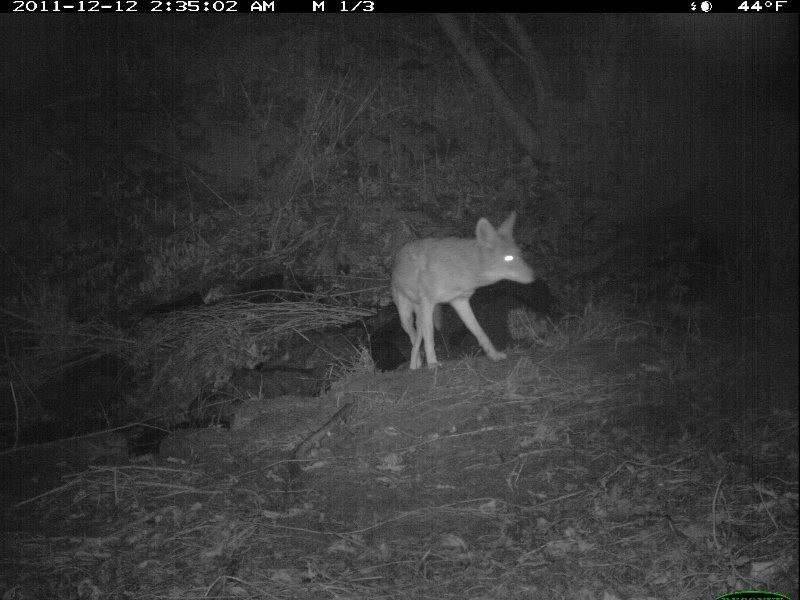coyote: (390, 205, 538, 376)
